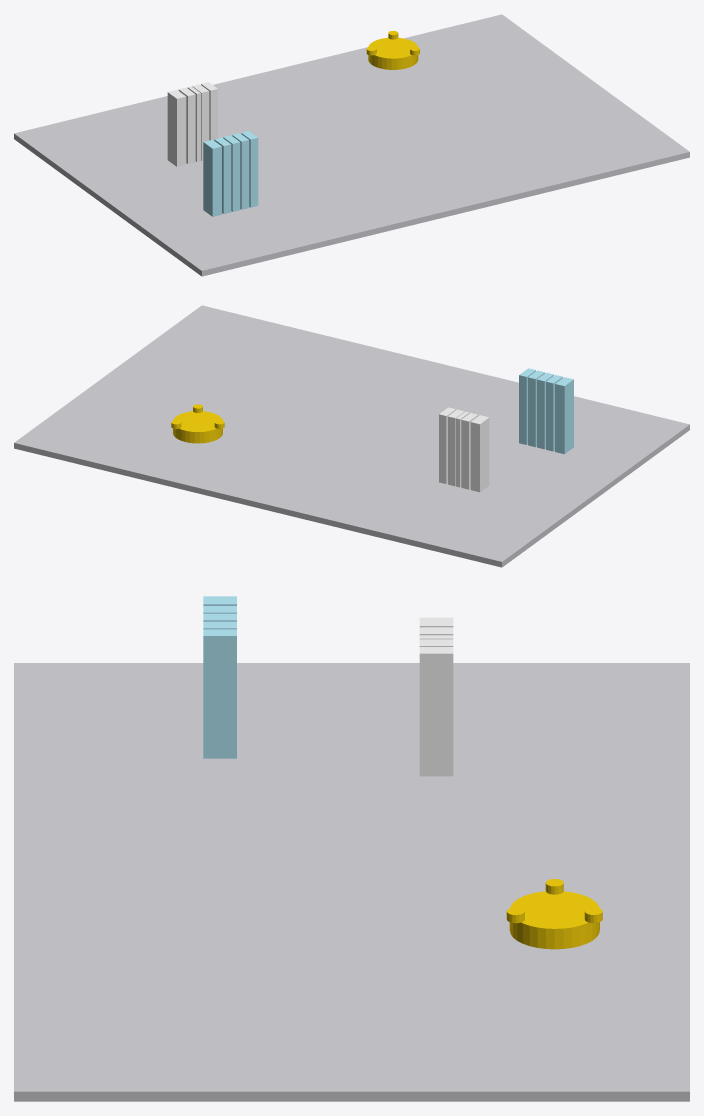
The model's file is Led neon nhiều màu 90 x 60.obj.
3 views of the same model, one above another, from view 1: azimuth 30°, elevation 25°; view 2: azimuth 150°, elevation 25°; view 3: azimuth 270°, elevation 25° (orthographic). The views are drawn at different scales.
Visible parts, largest first — view 1: led_neon_nhieu_mau_90_x_60; view 2: led_neon_nhieu_mau_90_x_60; view 3: led_neon_nhieu_mau_90_x_60.
Boxes of the visible parts, x1,y1,x2,y2 form: led_neon_nhieu_mau_90_x_60: [14, 14, 689, 276]; led_neon_nhieu_mau_90_x_60: [14, 305, 689, 567]; led_neon_nhieu_mau_90_x_60: [14, 596, 689, 1101].
Bounding box in the file's own units: 0.9 × 0.13 × 0.6.
